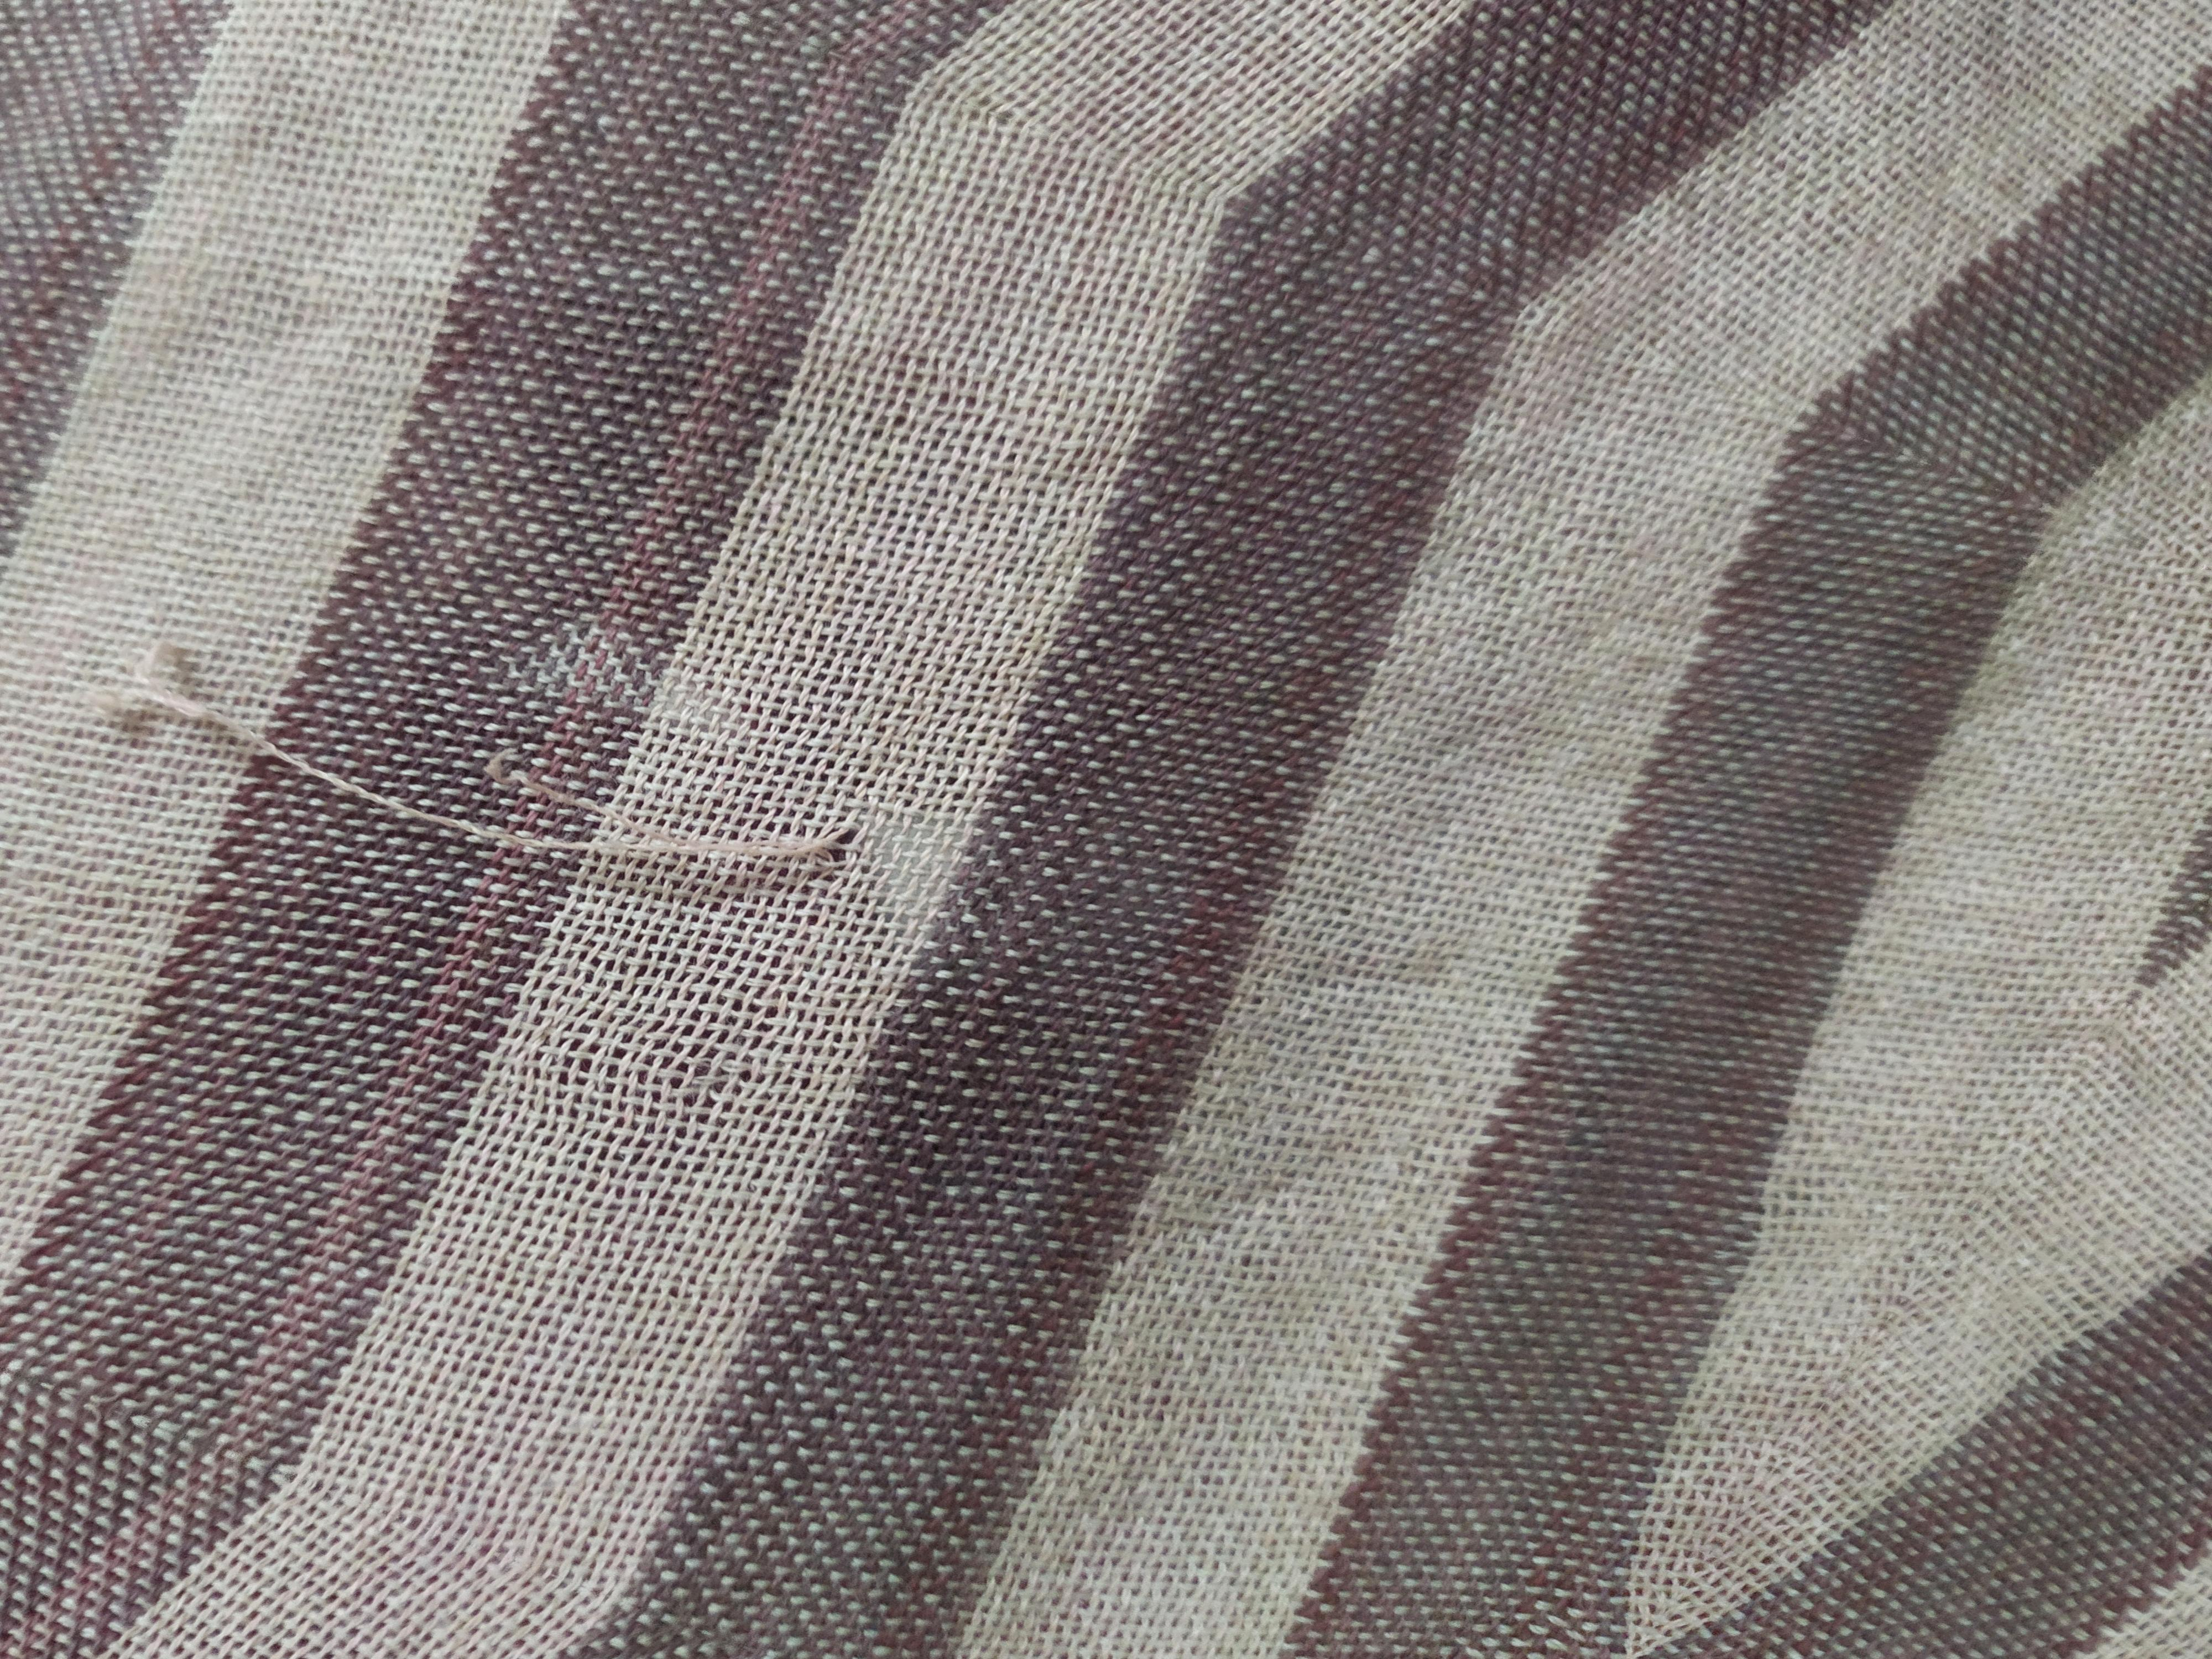snag: (643, 760, 904, 931)
